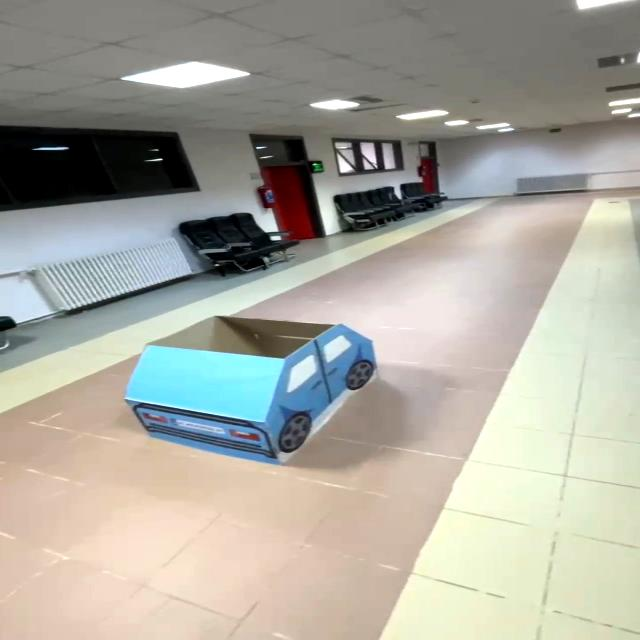blue_car: (103, 298, 410, 490)
